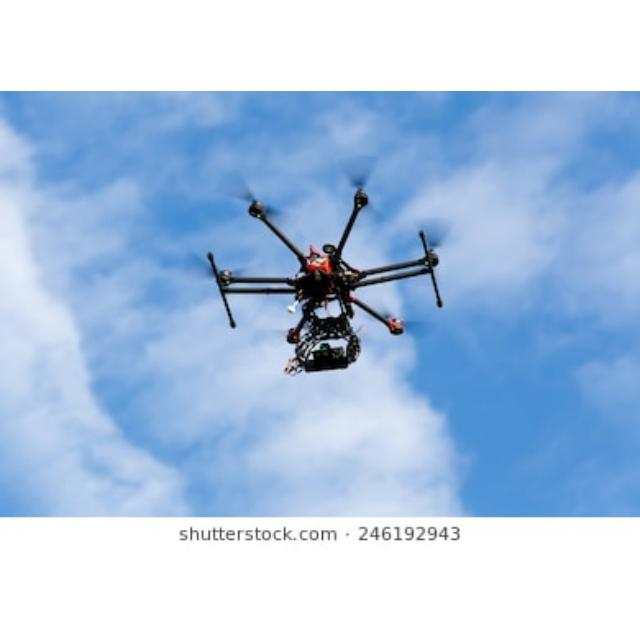Drones: (215, 177, 445, 376)
